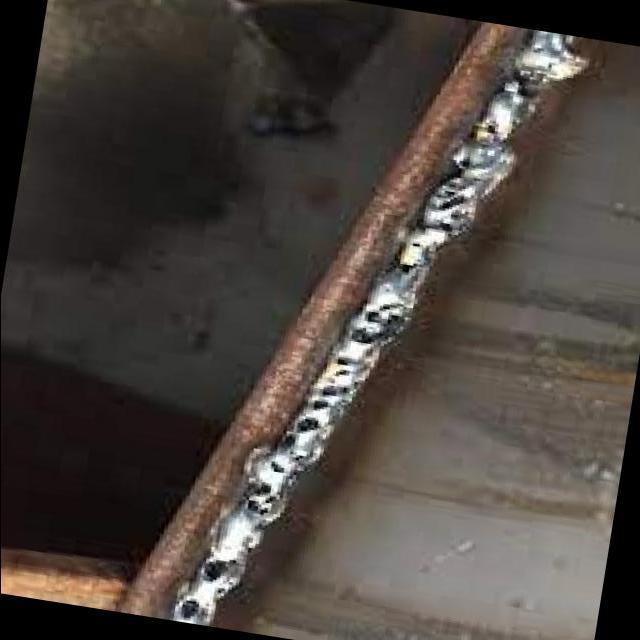defect: (428, 177, 479, 238), (346, 300, 407, 347), (307, 354, 353, 413), (237, 476, 289, 521), (276, 410, 322, 450), (199, 553, 243, 583), (172, 595, 214, 624), (505, 64, 537, 100), (451, 149, 481, 173), (395, 258, 423, 277), (264, 458, 289, 476), (482, 122, 501, 139), (408, 241, 422, 249)
